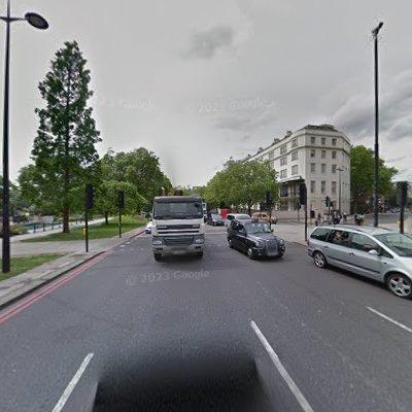moving-car: (70, 317, 280, 411), (306, 225, 410, 298), (225, 218, 284, 260), (252, 211, 280, 225), (207, 212, 225, 226), (144, 221, 154, 234)
moving-heavy-truck: (152, 185, 206, 261), (202, 202, 208, 223)
moving-light-truck: (226, 212, 254, 226)
